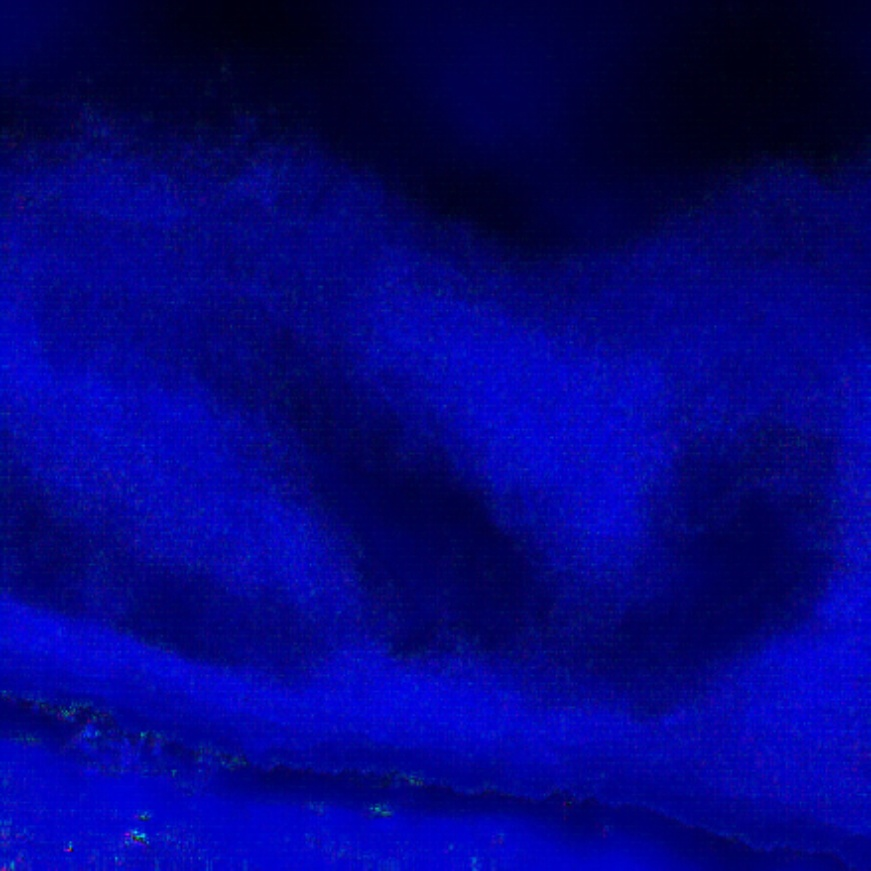rip_current: (203, 275, 564, 724)
